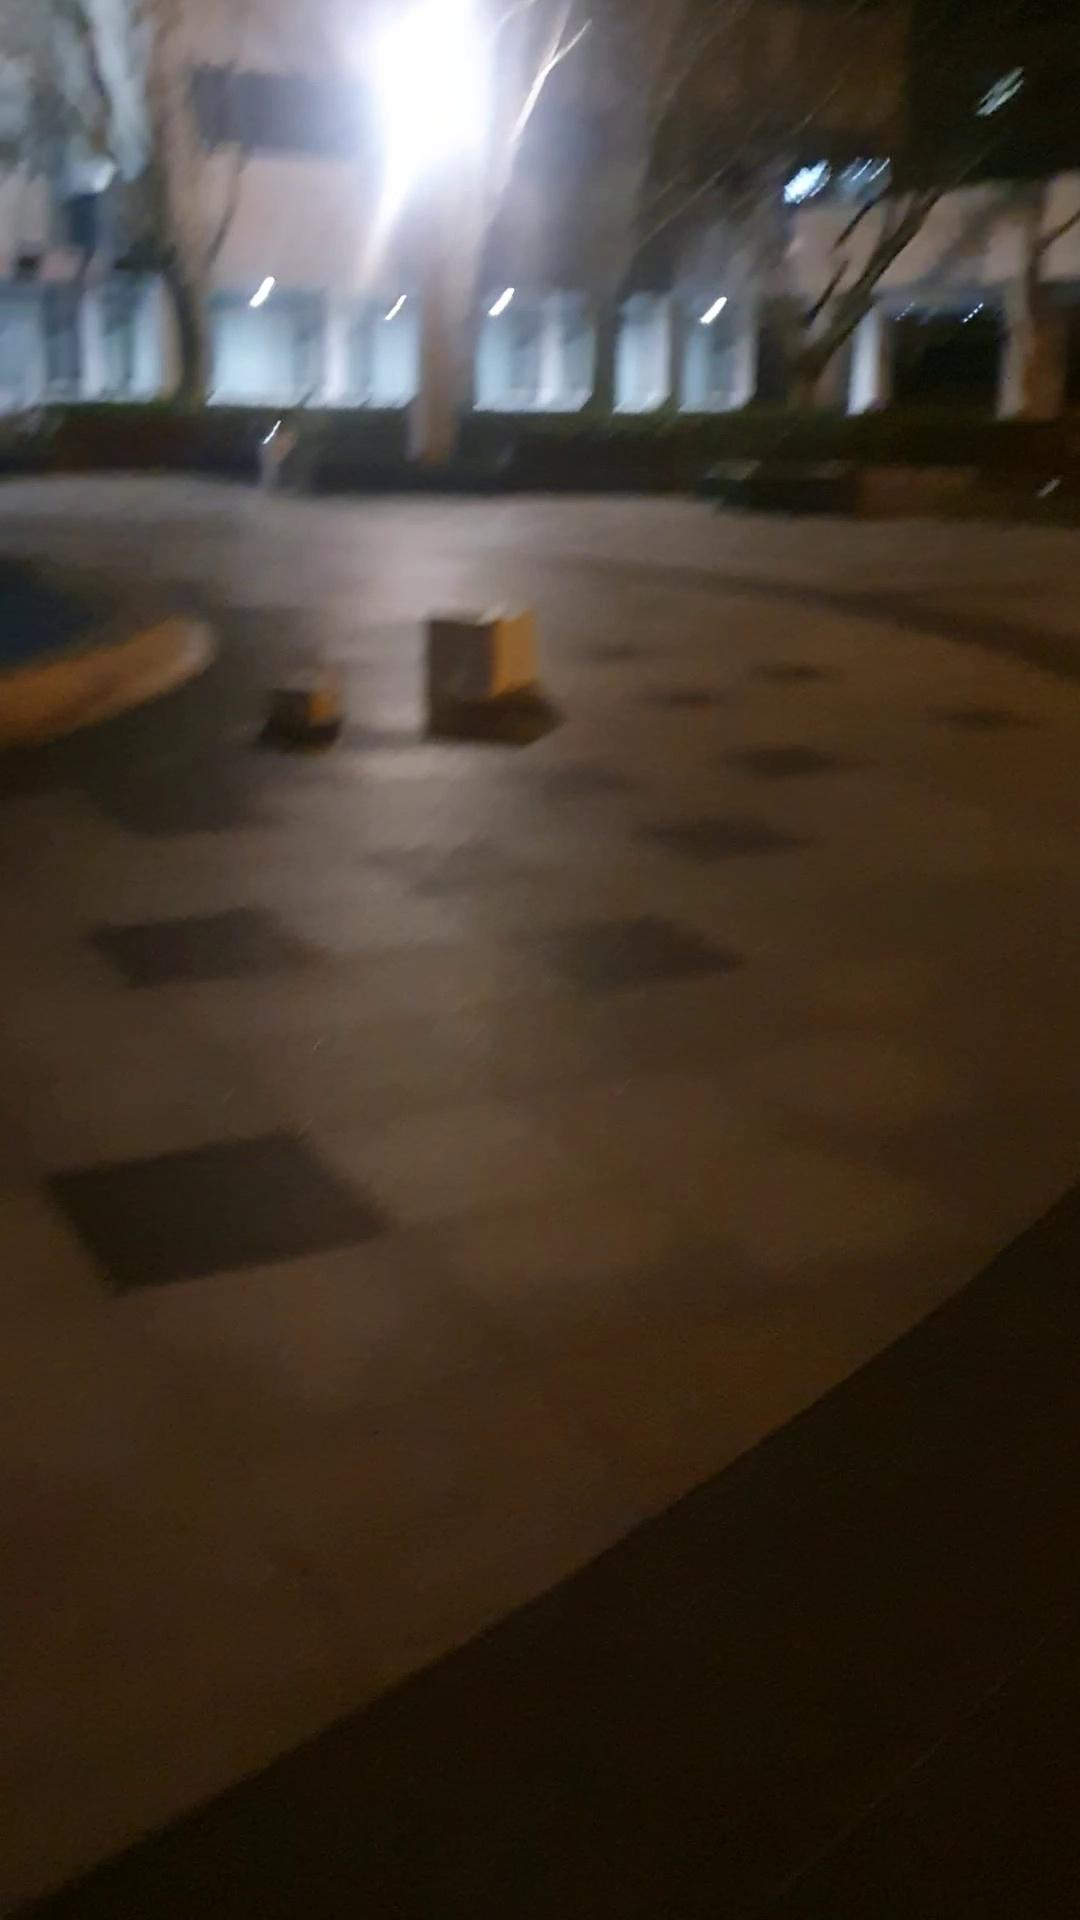Box: (418, 600, 531, 712), (248, 658, 345, 738)
